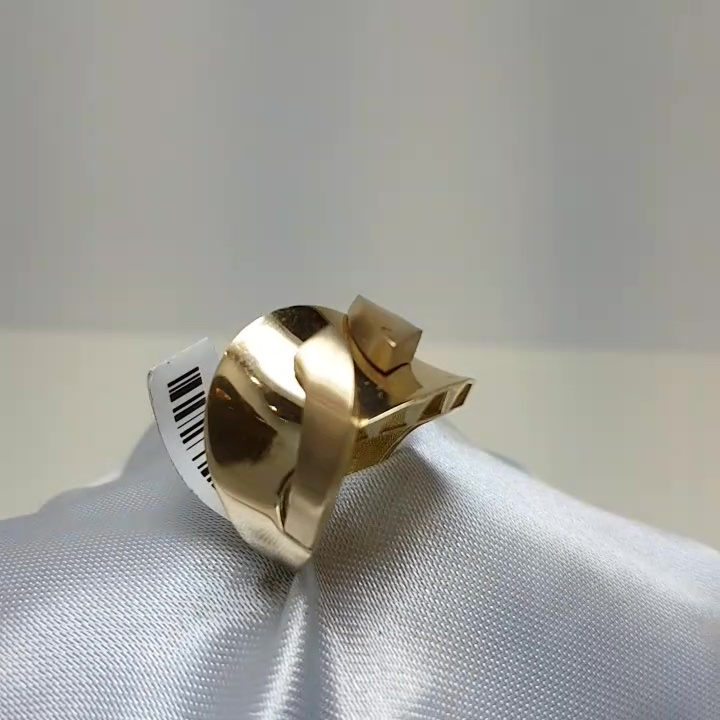Ring 4: (158, 298, 475, 585)
